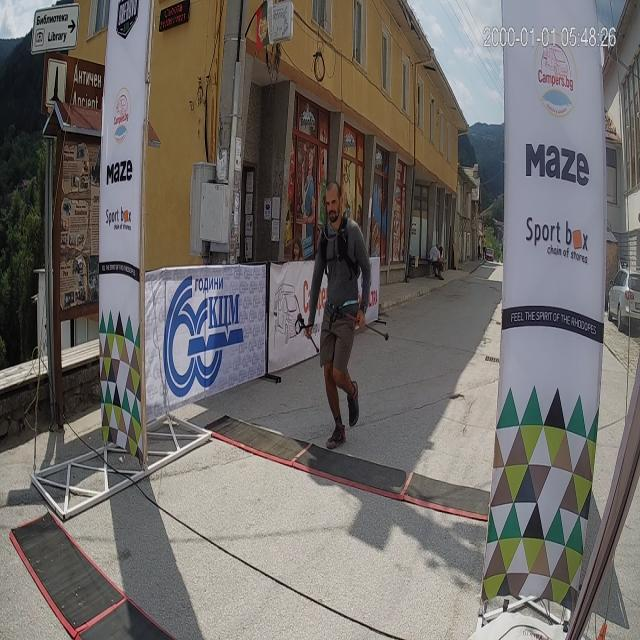runner: (295, 158, 375, 452)
